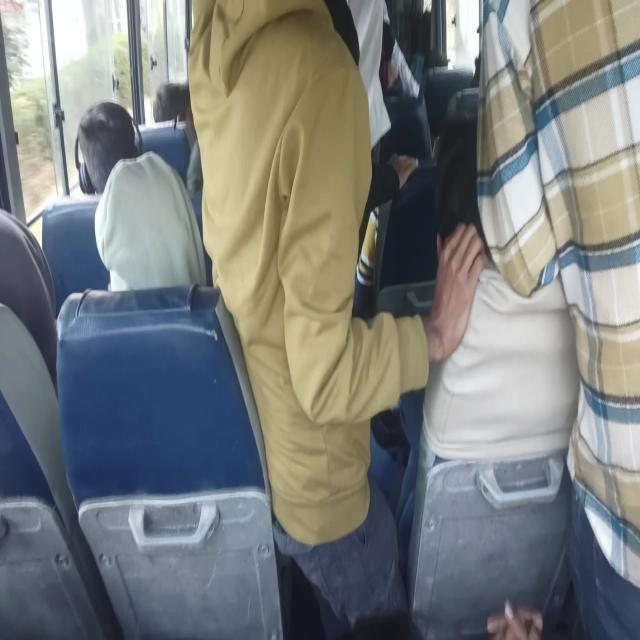person: (186, 1, 487, 635), (474, 0, 639, 638), (75, 99, 207, 292)
